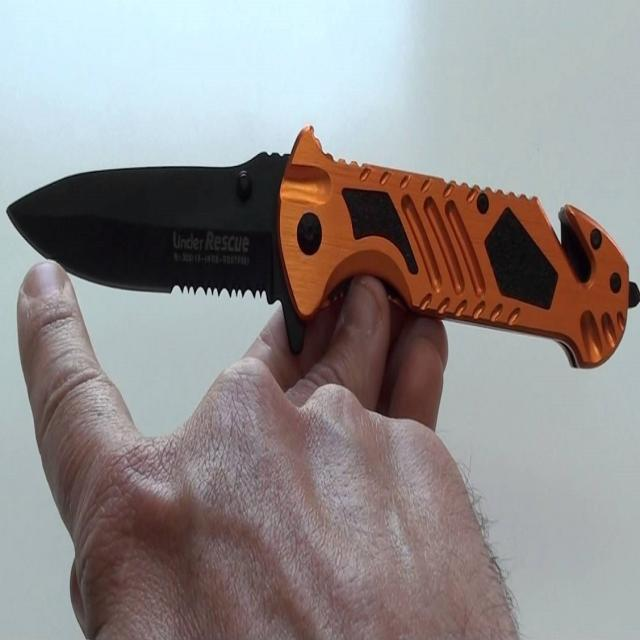knife: (6, 118, 637, 365)
